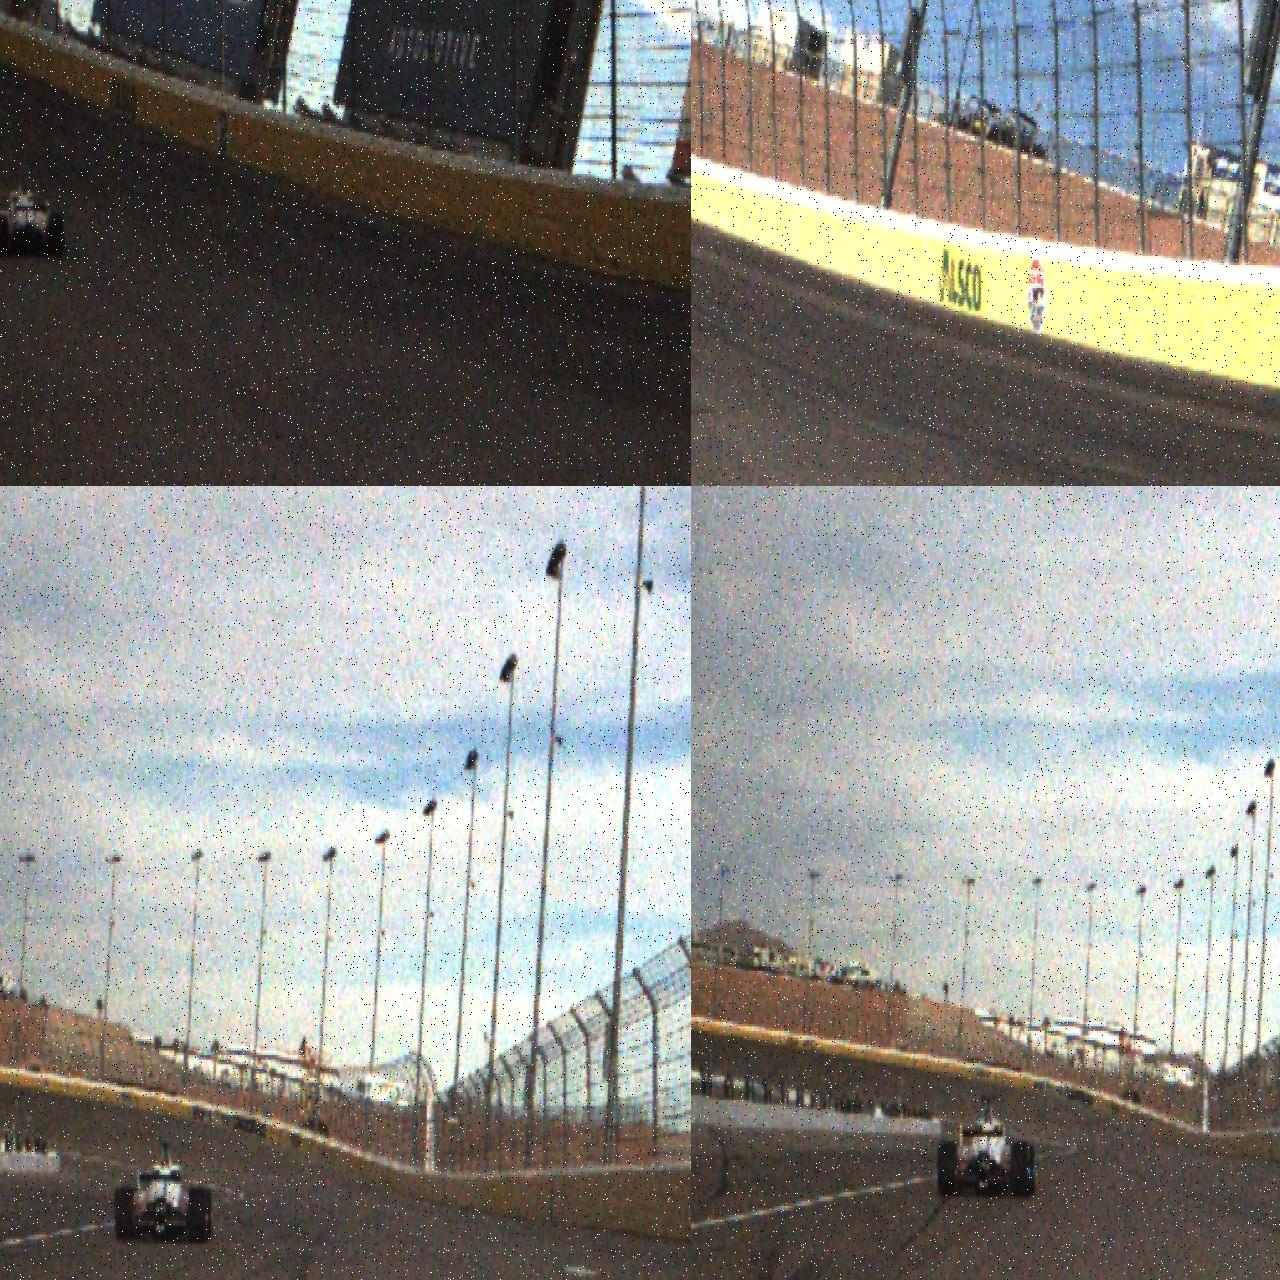AV: (114, 1141, 213, 1244), (938, 1094, 1035, 1198), (0, 177, 64, 257)
Wheel: (938, 1143, 958, 1198), (189, 1187, 207, 1244), (1012, 1142, 1030, 1198), (115, 1186, 132, 1240), (49, 212, 64, 258), (0, 215, 8, 256)
